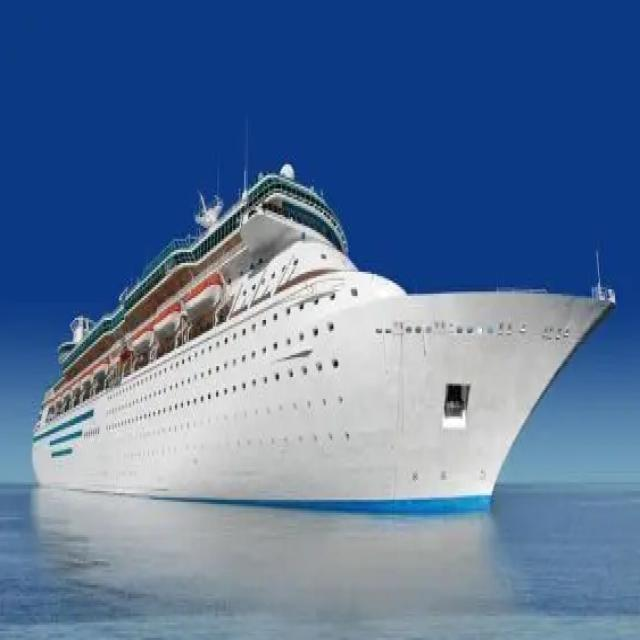passenger ship: (30, 168, 619, 506)
